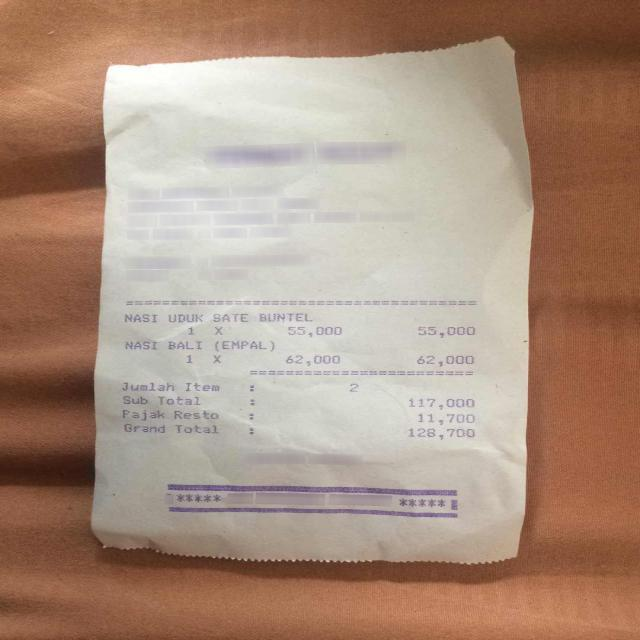kertas: (90, 27, 538, 568)
